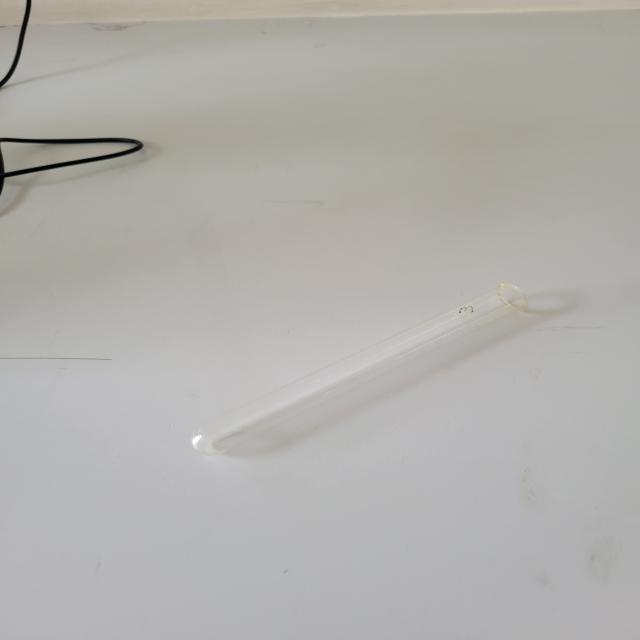Test_Tube: (77, 269, 600, 480)
